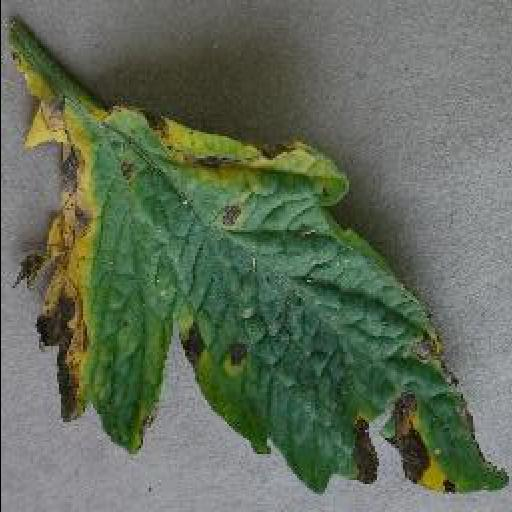disease_tomato: (12, 63, 510, 499)
